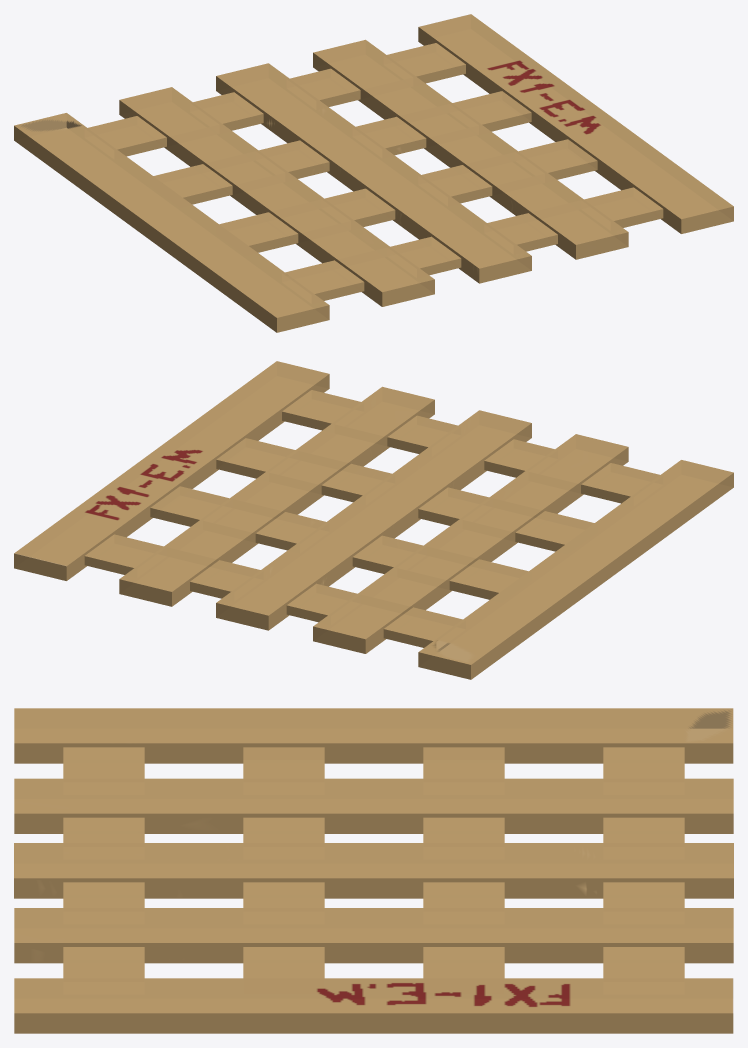
Rendered from Pallet.fbx.
The picture shows the model from 3 angles, top to bottom: view 1: azimuth 30°, elevation 25°; view 2: azimuth 150°, elevation 25°; view 3: azimuth 270°, elevation 25°; orthographic projection. The views are drawn at different scales.
Parts seen in each view (by area): view 1: Cube; view 2: Cube; view 3: Cube.
Part boxes in pixels (x1=…): Cube: x1=14, y1=14, x2=733, y2=332; Cube: x1=14, y1=361, x2=733, y2=679; Cube: x1=14, y1=708, x2=733, y2=1033.
Size of the model in its own units: 802 by 800 by 25.16.
